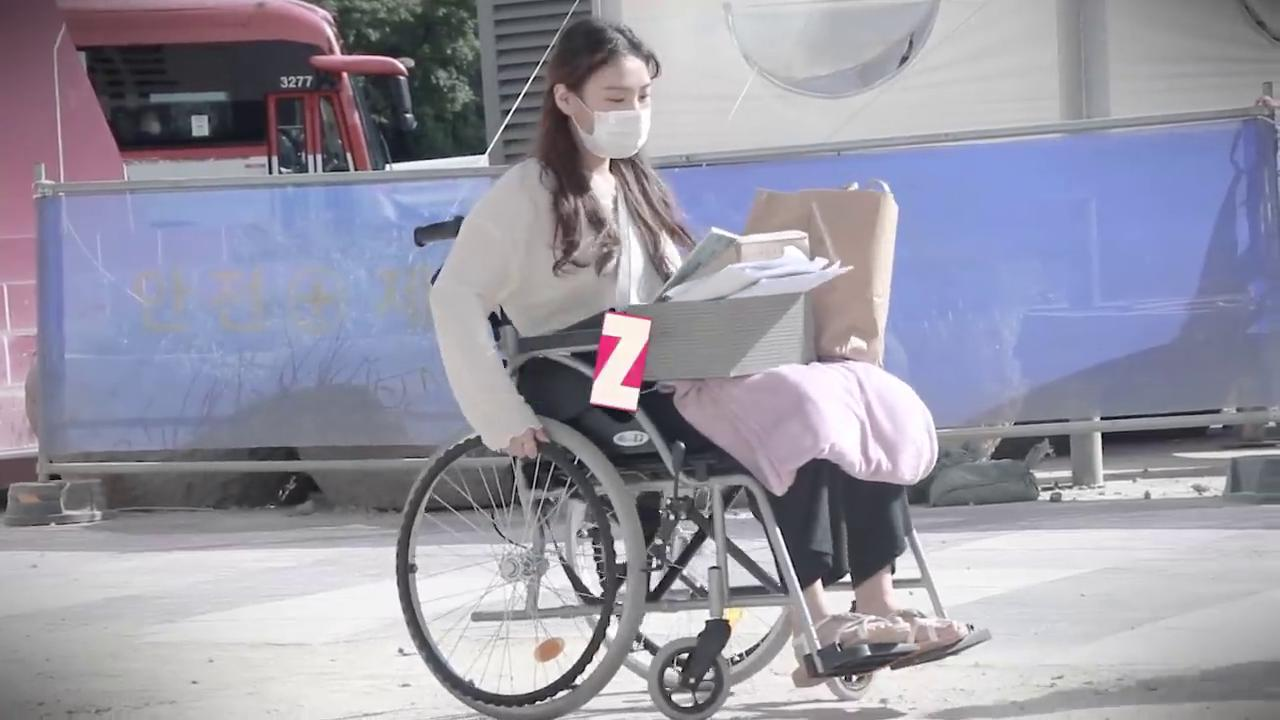wheelchair: (396, 17, 975, 716)
